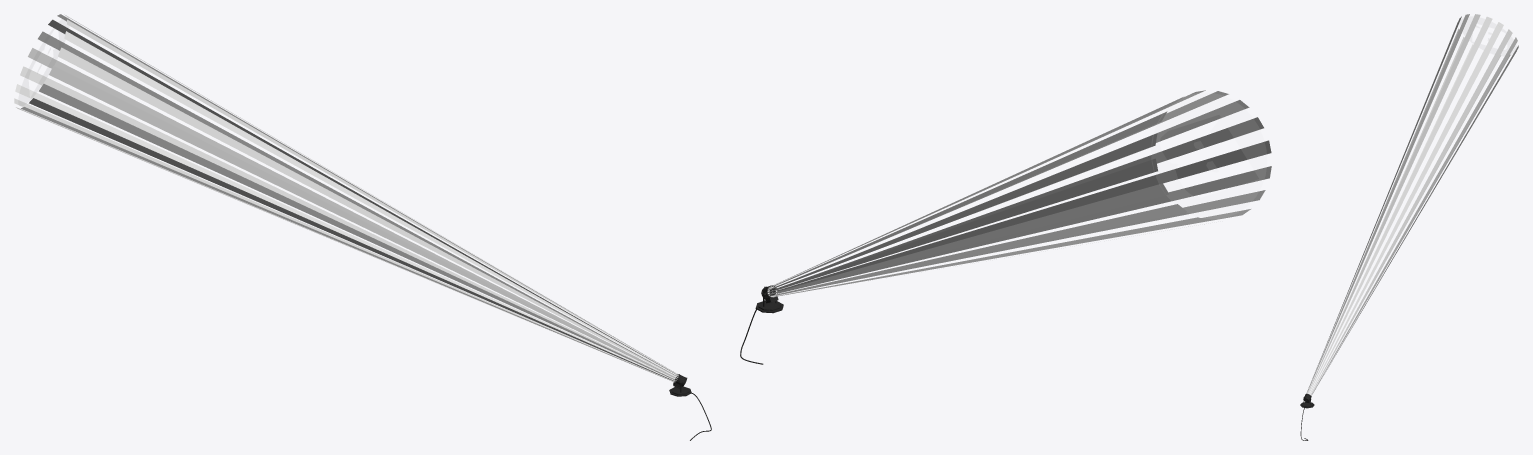
Rendered from SpotLight.fbx.
3 renders of one model, left to right at view 1: azimuth 30°, elevation 25°; view 2: azimuth 150°, elevation 25°; view 3: azimuth 270°, elevation 25°, orthographic. The views are drawn at different scales.
Visible parts, largest first — view 1: Spot; view 2: Spot; view 3: Spot.
Boxes of the visible parts, x1,y1,x2,y2 form: Spot: (14, 14, 687, 388); Spot: (761, 90, 1271, 303); Spot: (1303, 14, 1518, 403).
Bounding box in the file's own units: 55503 × 42010 × 30252.
